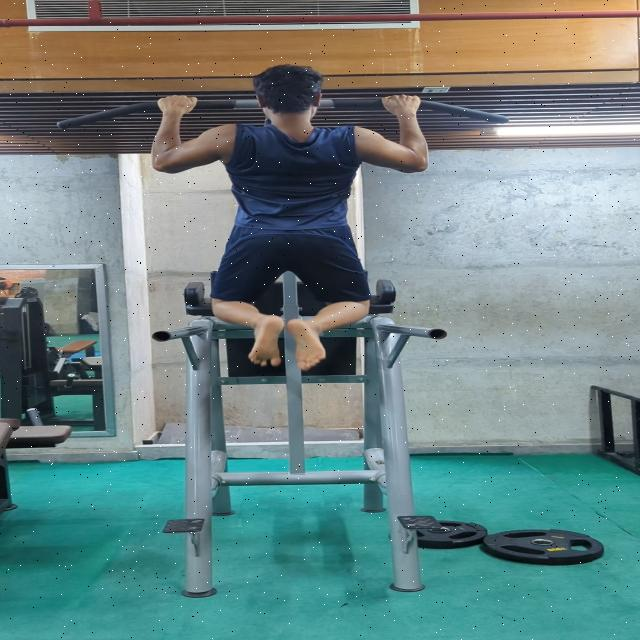Normal_PullUps: (145, 53, 444, 374)
